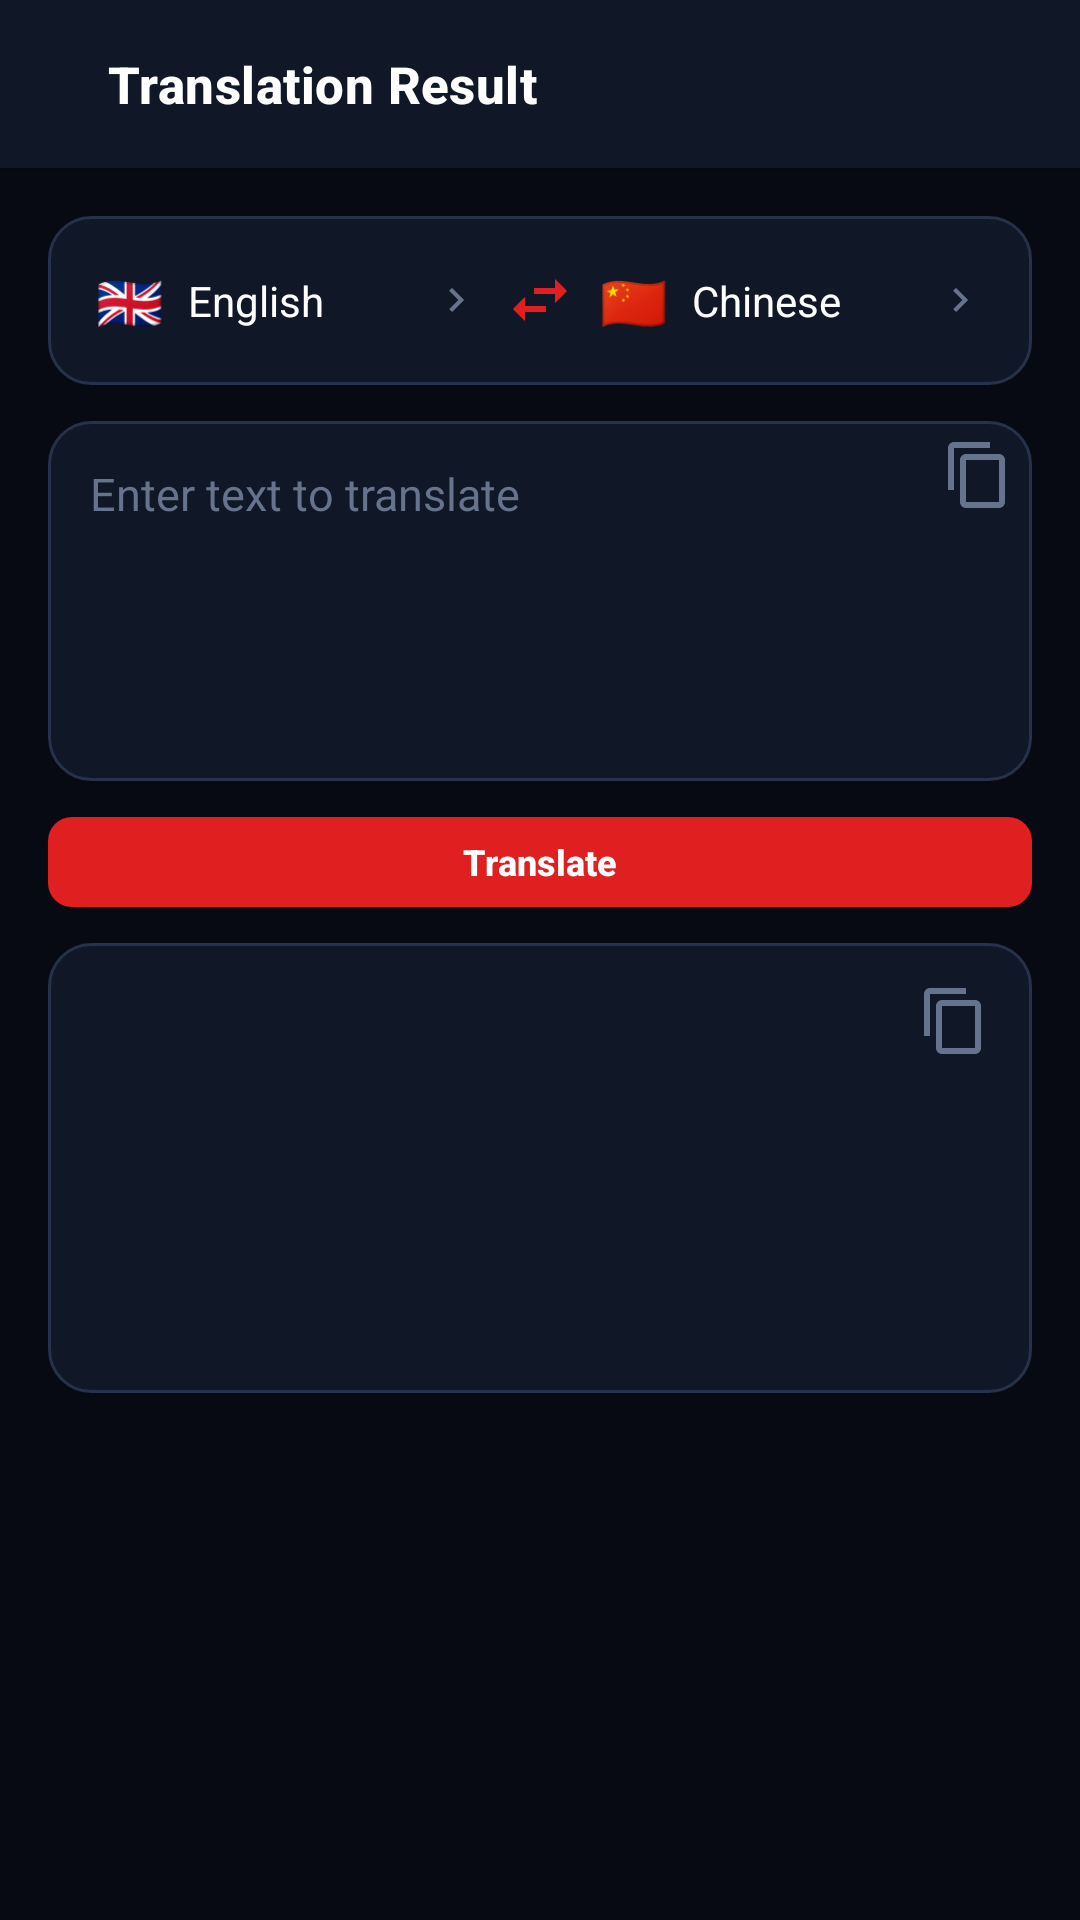

Icons on this 1080x1920 Android screen, each with the point to tap as [x,y]:
chevron: [456,300], [960,300]
Copy: [976,475], [952,1021]
Swap languages: [540,300]
